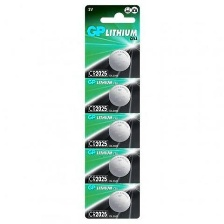battery: (104, 47, 133, 74), (107, 117, 134, 145), (106, 152, 133, 180), (105, 187, 132, 215), (106, 83, 133, 110)
book: (79, 1, 144, 221)
